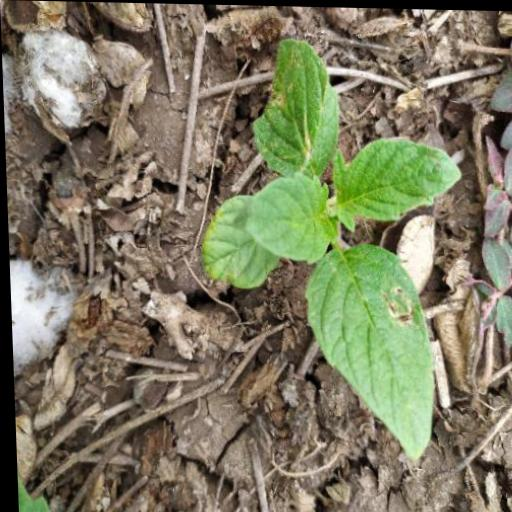weed: (174, 48, 465, 455)
